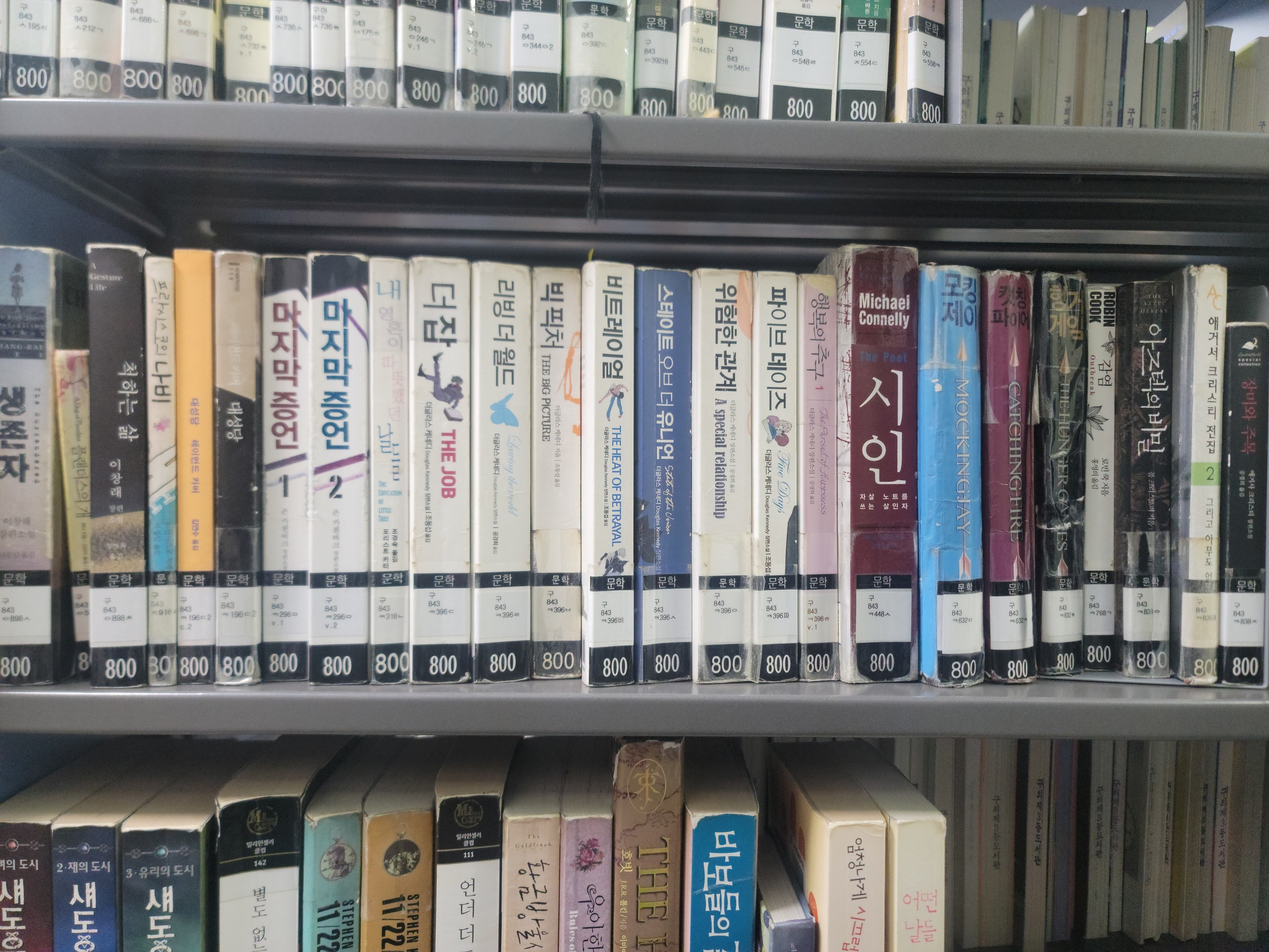book-spine: (848, 247, 919, 684), (919, 266, 986, 686), (87, 245, 147, 688), (410, 259, 470, 684), (309, 254, 368, 686), (473, 262, 531, 684), (695, 271, 753, 684), (0, 247, 53, 687), (641, 270, 692, 684), (262, 257, 310, 685), (587, 262, 635, 687), (986, 271, 1035, 682), (533, 268, 581, 684), (1038, 273, 1086, 682), (1126, 282, 1174, 681), (1182, 265, 1227, 686), (754, 273, 799, 683), (216, 253, 258, 686), (1220, 324, 1268, 688), (175, 250, 214, 686), (369, 259, 409, 684), (801, 276, 838, 681), (145, 260, 178, 685), (1084, 286, 1118, 682), (53, 351, 91, 685)
